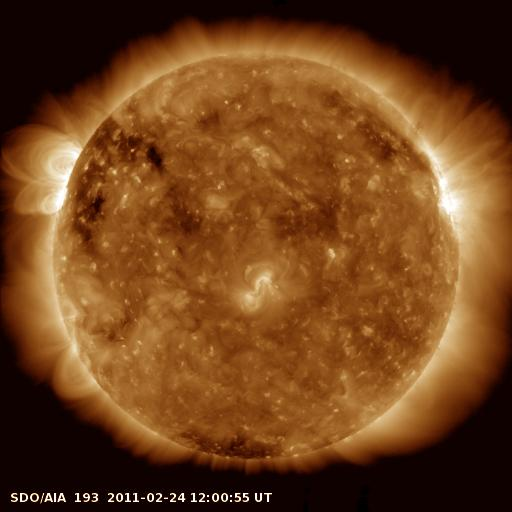coronal_hole: (62, 114, 162, 242), (179, 435, 281, 463)
